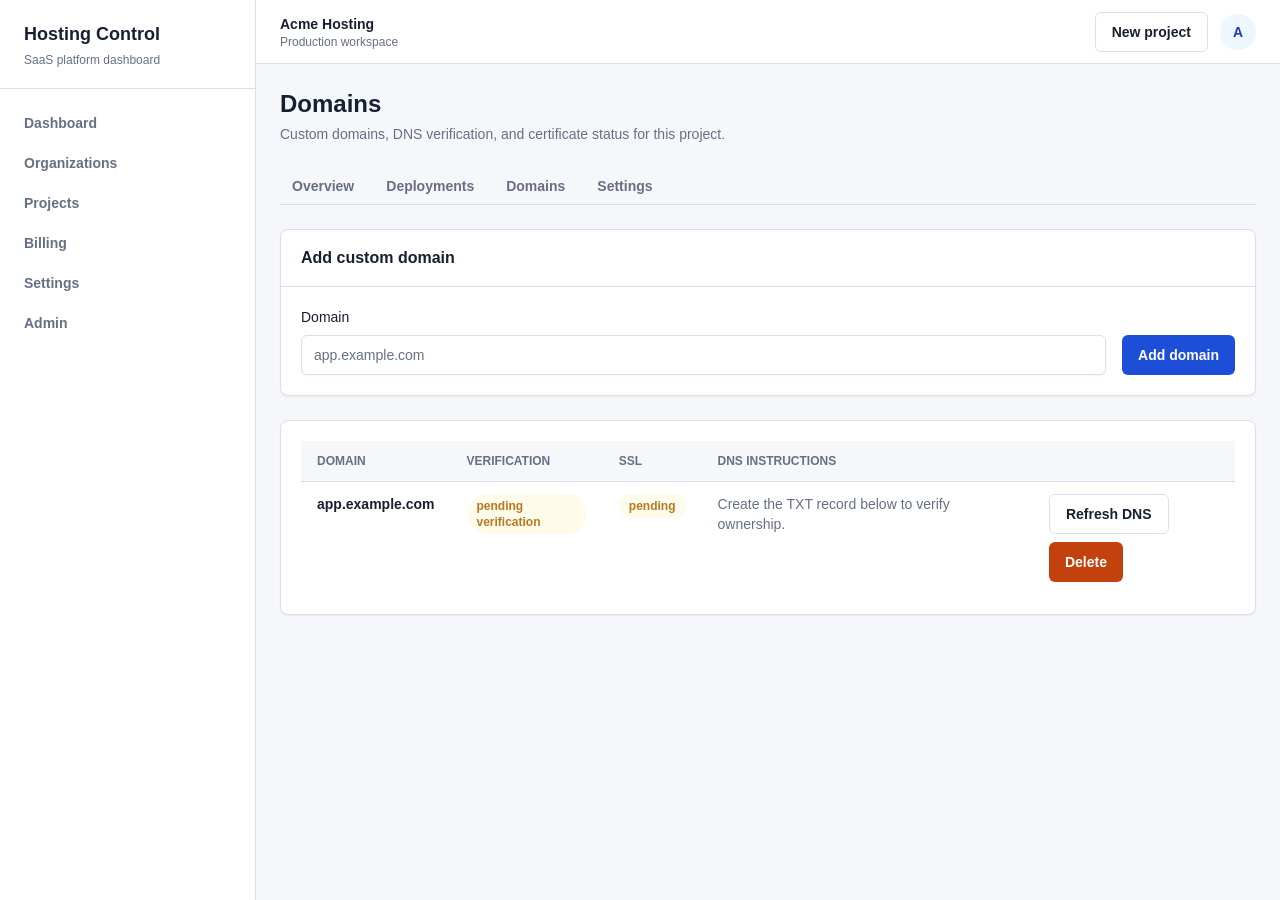
ProjectDomainsPage › refreshes DNS status
Click the button "Refresh DNS" at {"x": 1109, "y": 514}, box [1049, 494, 1168, 534]
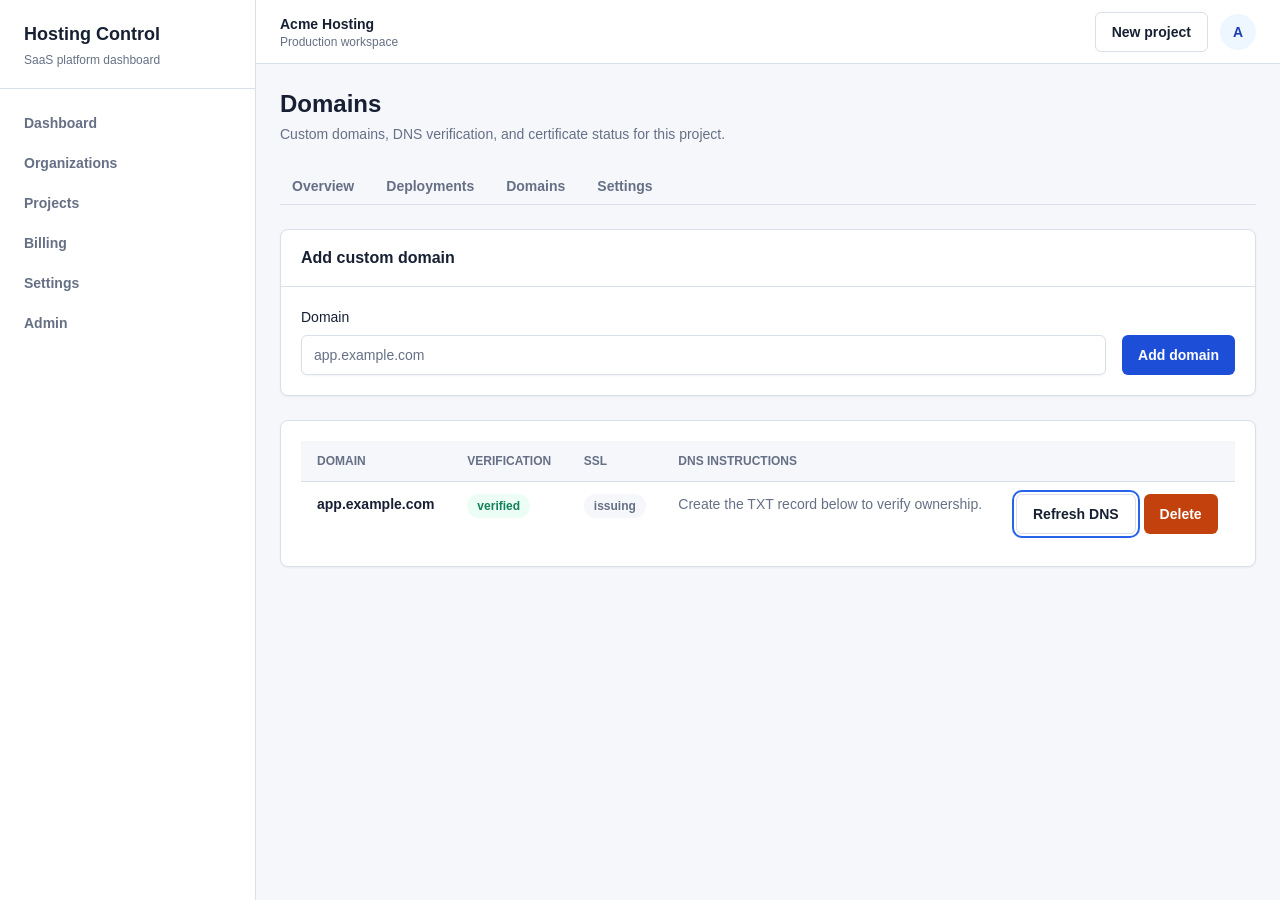
expect the text "verified" is shown: met, box [467, 494, 530, 518]
